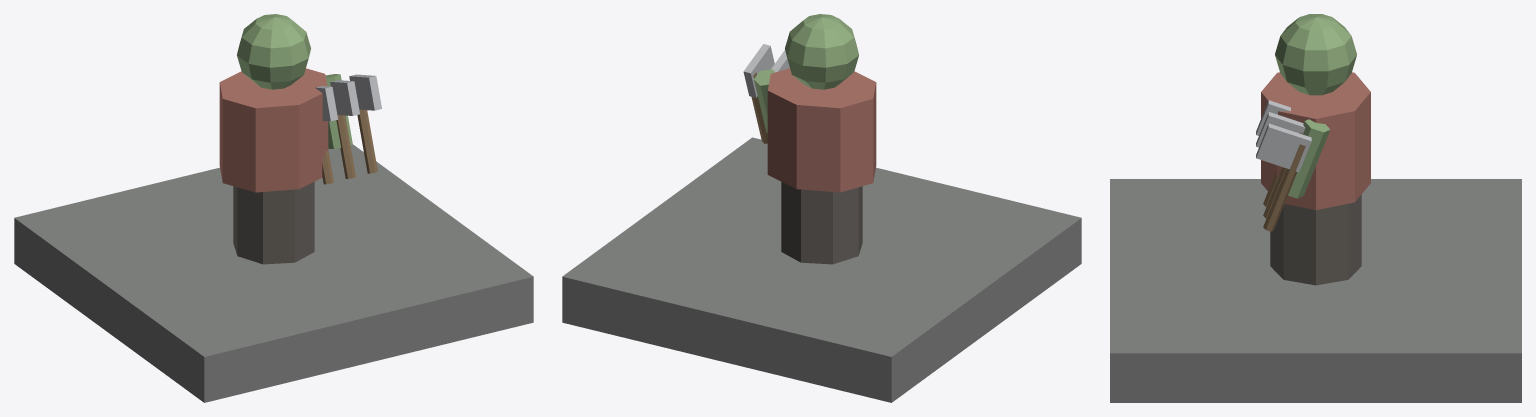
The model's file is orc_raider.glb.
3 renders of one model, left to right at view 1: azimuth 30°, elevation 25°; view 2: azimuth 150°, elevation 25°; view 3: azimuth 270°, elevation 25°, orthographic. The views are drawn at different scales.
Visible parts, largest first — view 1: Base, TurretMesh, ArmMesh; view 2: Base, TurretMesh, ArmMesh; view 3: Base, TurretMesh, ArmMesh.
Boxes of the visible parts, x1,y1,x2,y2 form: Base: (14,144,533,402); TurretMesh: (219,14,328,264); ArmMesh: (315,74,381,184); Base: (562,137,1081,402); TurretMesh: (767,14,876,264); ArmMesh: (743,44,789,143); Base: (1110,179,1521,402); TurretMesh: (1261,14,1370,285); ArmMesh: (1256,100,1330,231).
Size of the model in its own units: 1.8 by 1.44 by 1.8.
